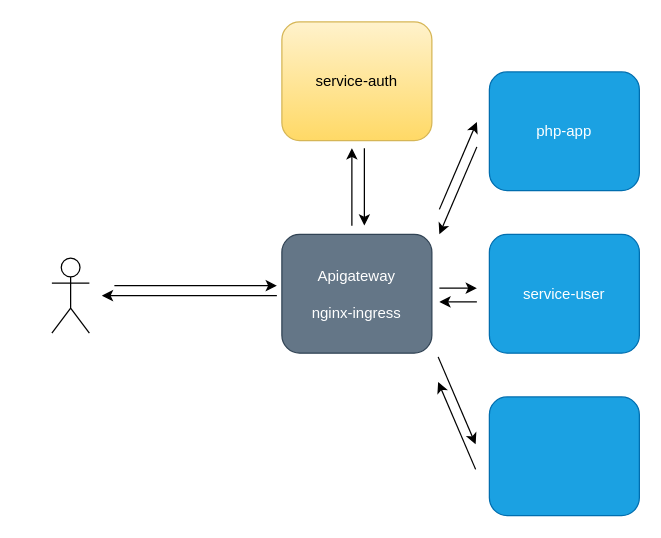
This 661x538 diagram has some shape labels left out. Here are the shapes that lost their labels. From the top down, the centre of each, then its label:
At point (70, 295): "Пользователь".
At point (563, 456): "service-notification".
